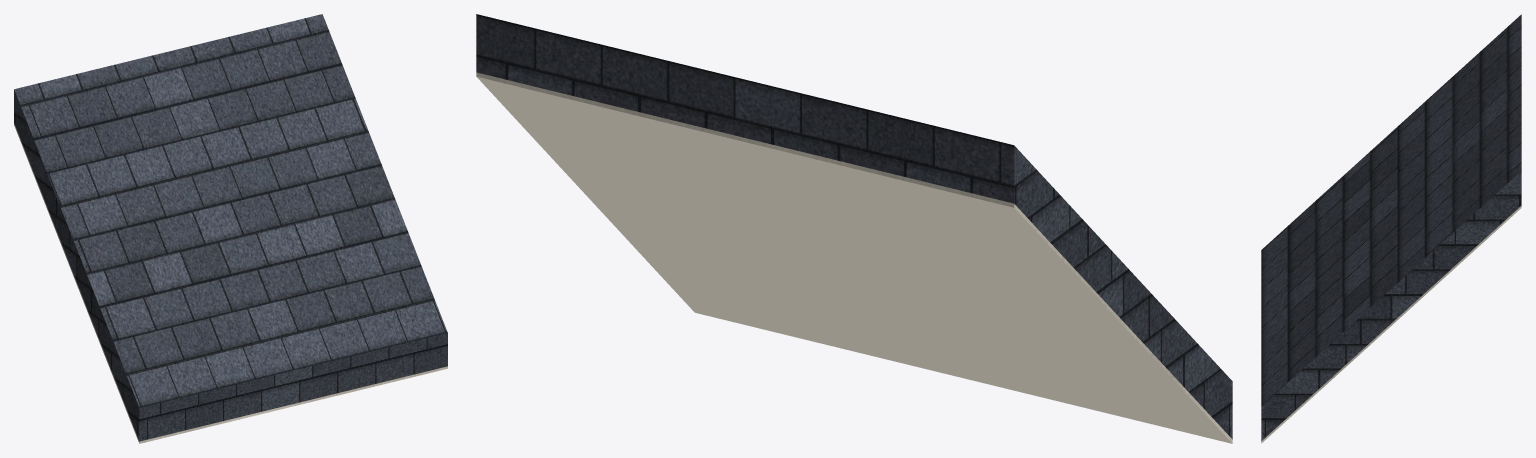
Rendered from vest_slope.glb.
The picture shows the model from 3 angles, left to right: view 1: azimuth 30°, elevation 25°; view 2: azimuth 150°, elevation 25°; view 3: azimuth 270°, elevation 25°; orthographic projection. The views are drawn at different scales.
Parts seen in each view (by area): view 1: vest_slope_shingle, vest_slope_plaster; view 2: vest_slope_plaster, vest_slope_shingle; view 3: vest_slope_shingle, vest_slope_plaster.
Part boxes in pixels (x1,y1,x2,y2): vest_slope_shingle: (14,14,447,441); vest_slope_plaster: (14,123,447,443); vest_slope_plaster: (476,72,1232,443); vest_slope_shingle: (476,14,1232,439); vest_slope_shingle: (1261,14,1521,440); vest_slope_plaster: (1261,206,1521,443).
Bounding box in the file's own units: 2.7 × 2.2 × 1.9.
Materials: 2 (2 with a texture image).
